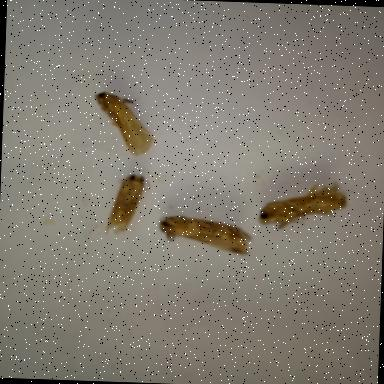abw: (246, 181, 354, 232), (88, 91, 168, 156), (153, 214, 250, 263), (104, 172, 148, 236)
